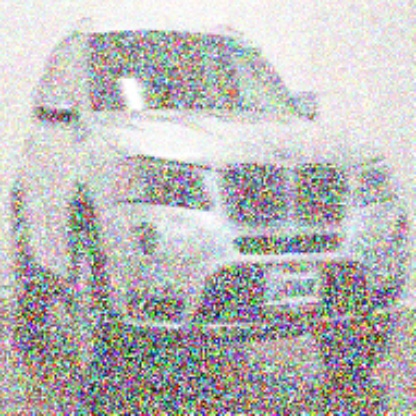Vehicle: (10, 13, 412, 406)
